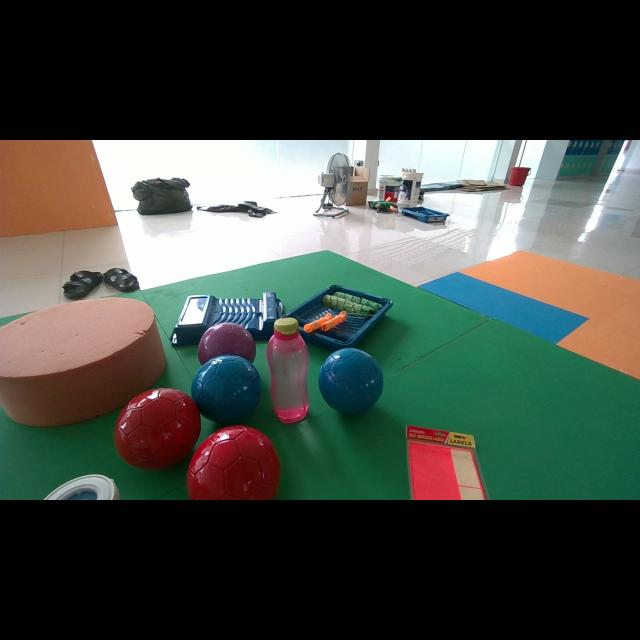B: (191, 355, 261, 424), (319, 348, 384, 414)
P: (198, 322, 256, 364)
R: (114, 388, 200, 469), (188, 425, 280, 499)
